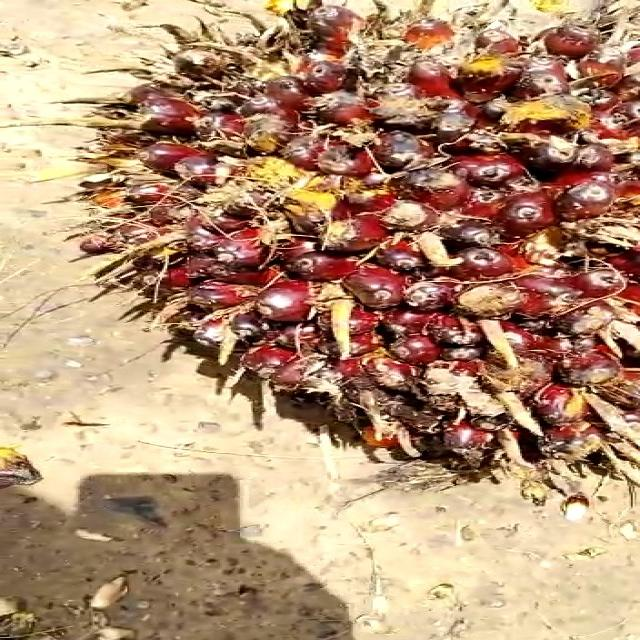palm oil: (22, 0, 638, 524)
